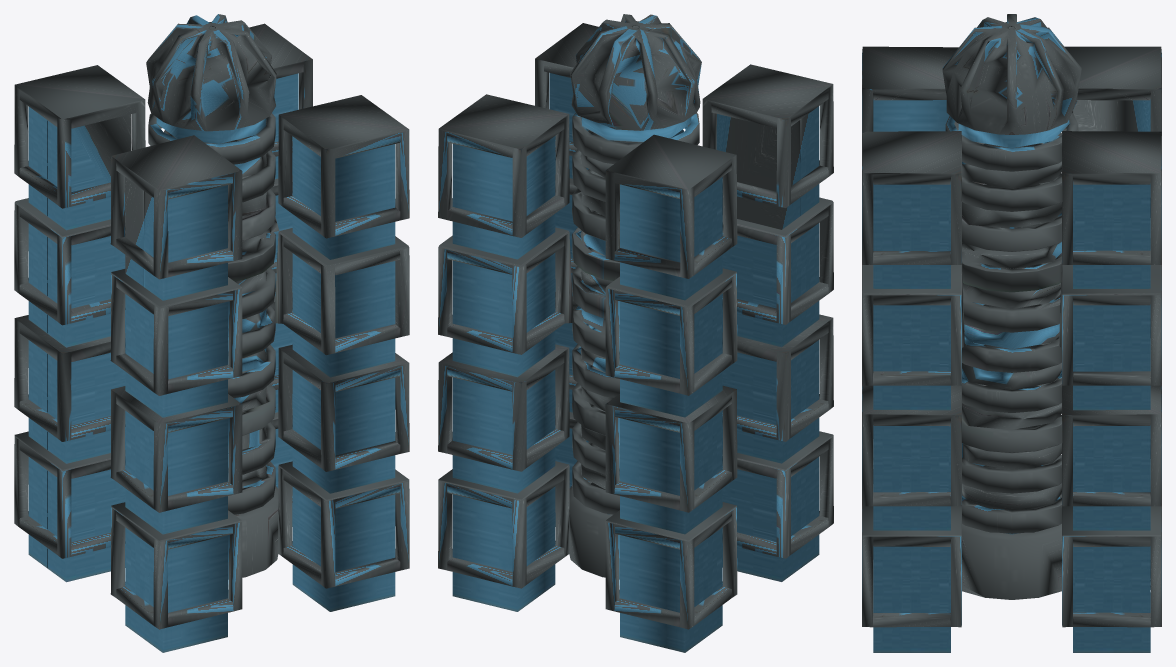
File: scifi-b5.gltf
3 views of the same model, side by side, from view 1: azimuth 30°, elevation 25°; view 2: azimuth 150°, elevation 25°; view 3: azimuth 270°, elevation 25° (orthographic). The views are drawn at different scales.
Parts seen in each view (by area): view 1: lod0; view 2: lod0; view 3: lod0.
Part boxes in pixels (<box>): lod0: <box>14,14,409,652</box>; lod0: <box>438,14,833,652</box>; lod0: <box>862,14,1161,652</box>.
Size of what is drawn, in the model's own units: 135 by 282 by 135.
1 material, 1 textured.
